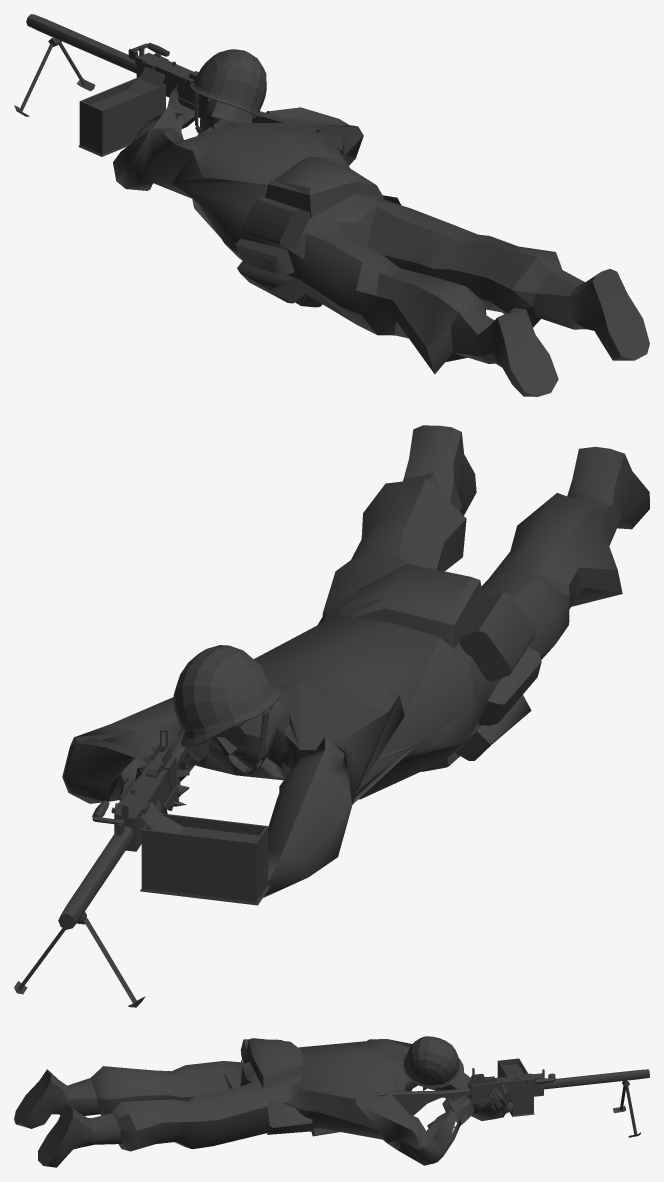
Rendered from us_bar_prono.glb.
3 views of the same model, one above another, from view 1: azimuth 30°, elevation 25°; view 2: azimuth 150°, elevation 25°; view 3: azimuth 270°, elevation 25° (orthographic). The views are drawn at different scales.
Parts seen in each view (by area): view 1: Object.004_Object.017_2; view 2: Object.004_Object.017_2; view 3: Object.004_Object.017_2.
Part boxes in pixels (x1,y1,x2,y2): Object.004_Object.017_2: (14,14,649,396); Object.004_Object.017_2: (14,425,649,1007); Object.004_Object.017_2: (14,1036,649,1167).
Bounding box in the file's own units: 0.2227 × 0.1331 × 0.7487.
1 material, 1 textured.
